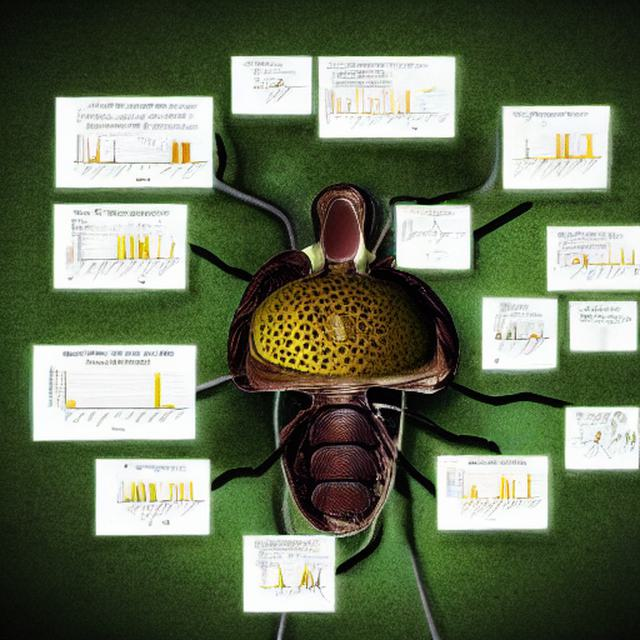Graph: (44, 347, 194, 437), (446, 460, 545, 524), (323, 81, 402, 128), (403, 210, 466, 247)
